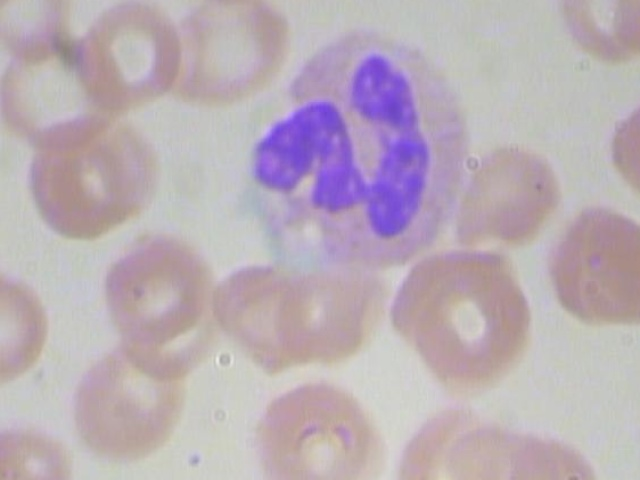RBC: (400, 257, 535, 396), (67, 338, 184, 459), (96, 220, 213, 341), (166, 0, 294, 107), (256, 373, 383, 480), (543, 201, 640, 336), (451, 138, 564, 253), (70, 0, 185, 109), (554, 0, 640, 66), (604, 84, 640, 199)
WBC: (238, 22, 487, 291)
